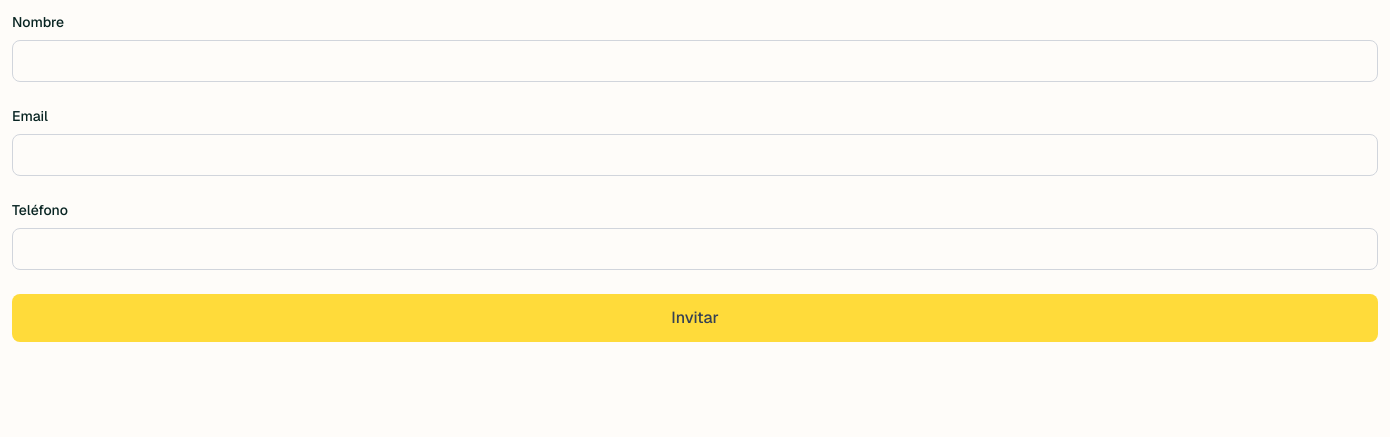
ReferralForm › should display ApiError when mutation fails with ApiError
Type "John Doe" into the field labelled "Nombre" at point(695, 61), box [12,40,1378,82]
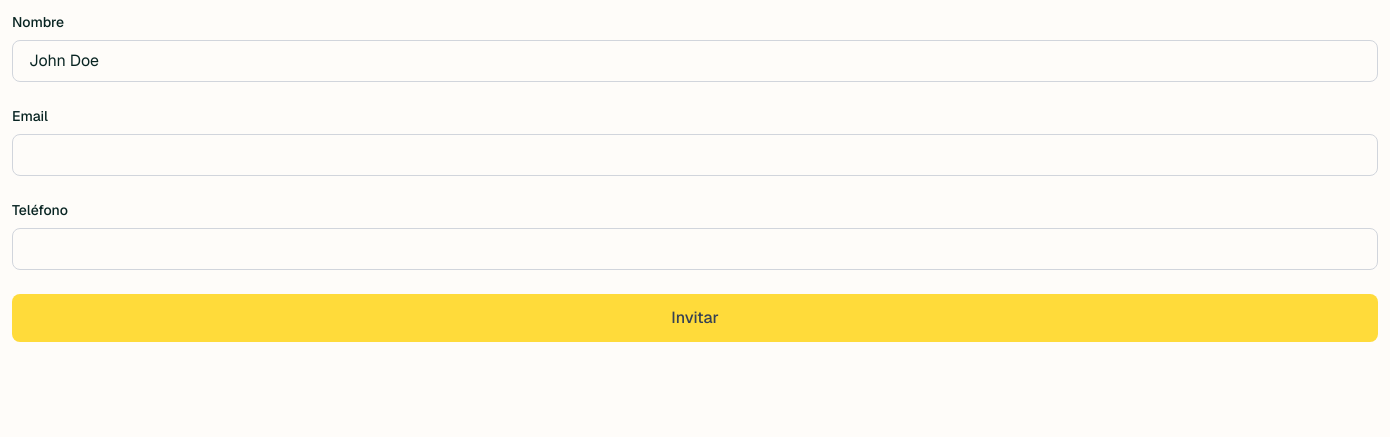
Type "john@example.com" into the field labelled "Email" at point(695, 155), box [12,134,1378,176]
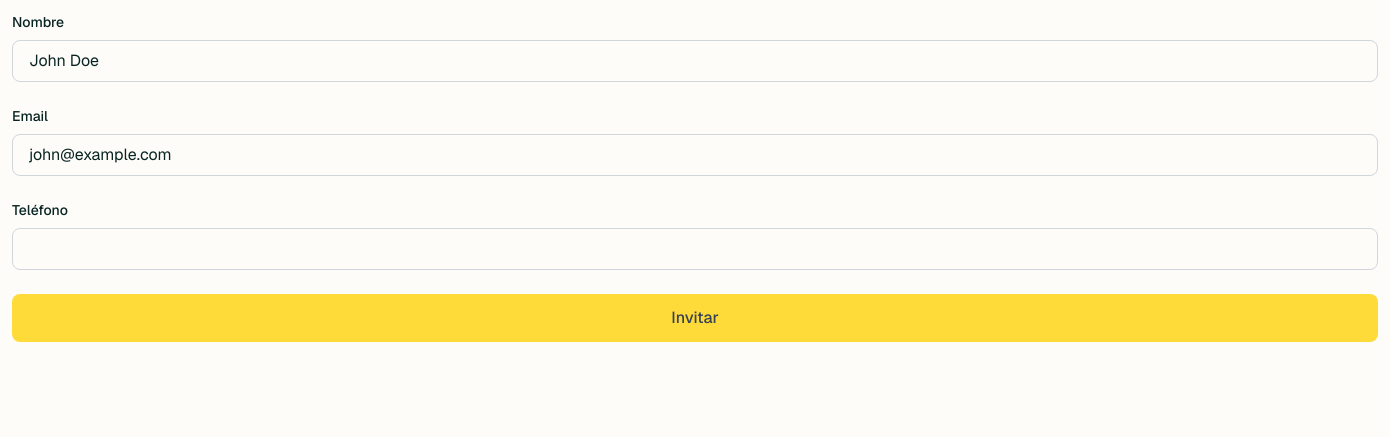
Type "+1234567890" into the field labelled "Teléfono" at point(695, 249), box [12,228,1378,270]
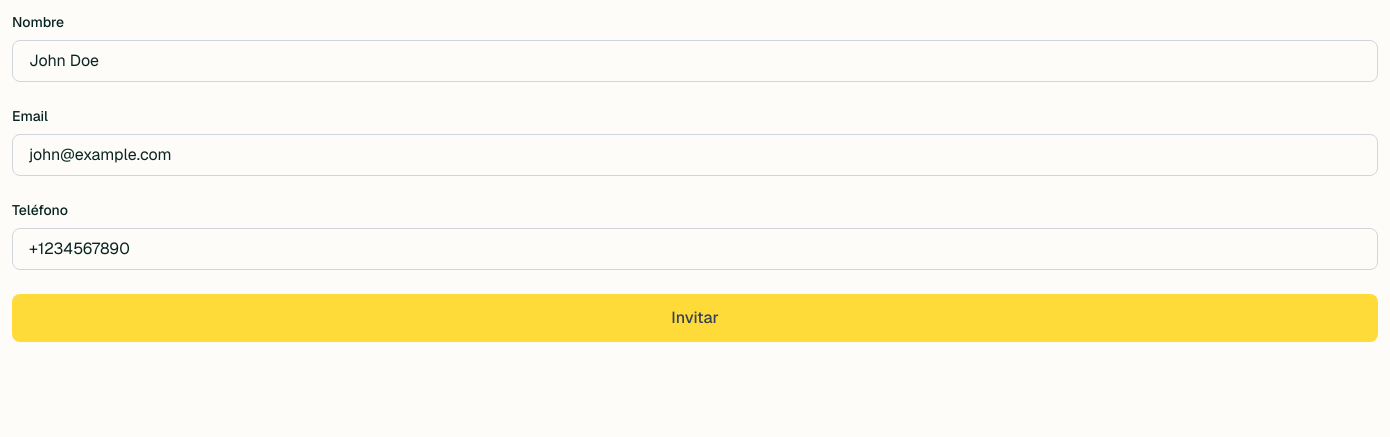
Submit the form labelled "Nombre"
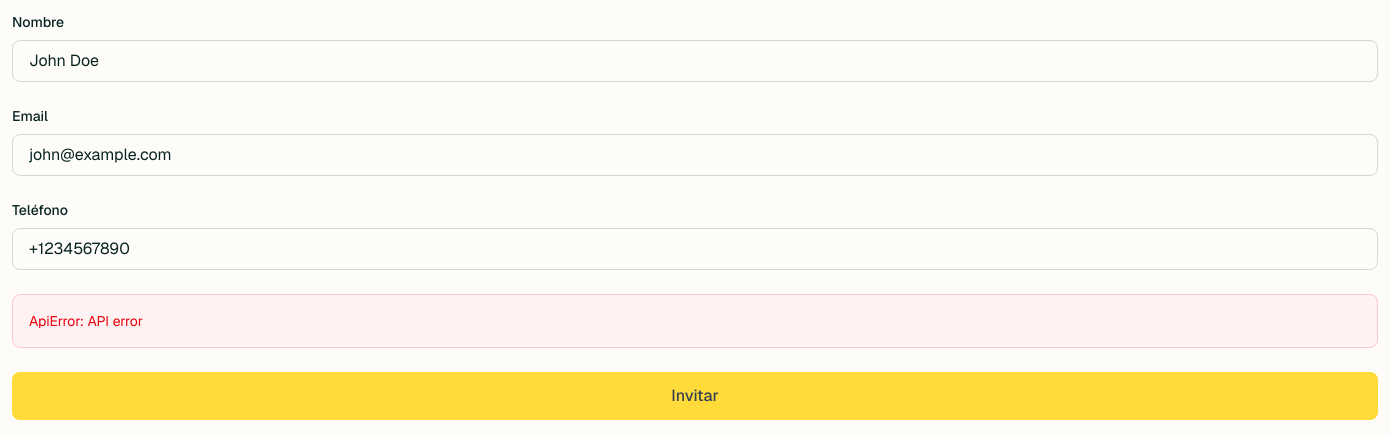
Expected: the text "ApiError: API error" is shown, [29,312,143,330]
